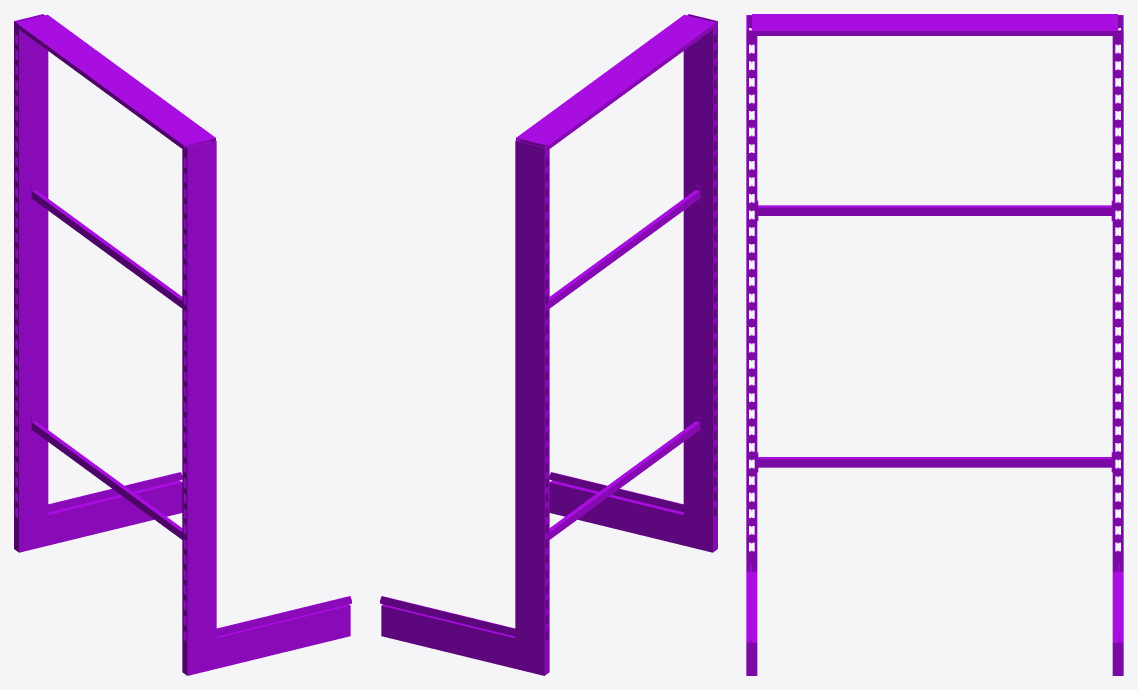
The model's file is PARTA002.glb.
The picture shows the model from 3 angles, left to right: view 1: azimuth 30°, elevation 25°; view 2: azimuth 150°, elevation 25°; view 3: azimuth 270°, elevation 25°; orthographic projection. The views are drawn at different scales.
Parts seen in each view (by area): view 1: 3DGeom-1; view 2: 3DGeom-1; view 3: 3DGeom-1.
Part boxes in pixels (<box>): 3DGeom-1: <box>14,14,351,675</box>; 3DGeom-1: <box>380,14,717,675</box>; 3DGeom-1: <box>746,14,1123,675</box>.
Size of the model in its own units: 0.573 by 1.73 by 1.03.
